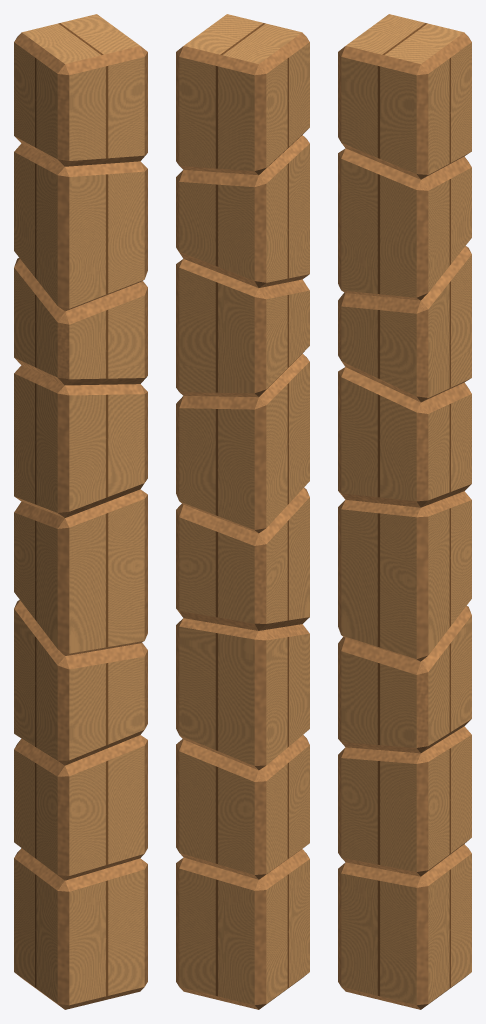
Rendered from Kit_Wood_Joint_Fractured.glb.
3 views of the same model, side by side, from view 1: azimuth 30°, elevation 25°; view 2: azimuth 150°, elevation 25°; view 3: azimuth 330°, elevation 25° (orthographic).
Parts seen in each view (by area): view 1: Kit_Wood_Joint_frag_04, Kit_Wood_Joint_frag_08, Kit_Wood_Joint_frag_07, Kit_Wood_Joint_frag_01, Kit_Wood_Joint_frag_05, Kit_Wood_Joint_frag_02, Kit_Wood_Joint_frag_03, Kit_Wood_Joint_frag_06; view 2: Kit_Wood_Joint_frag_08, Kit_Wood_Joint_frag_01, Kit_Wood_Joint_frag_03, Kit_Wood_Joint_frag_05, Kit_Wood_Joint_frag_02, Kit_Wood_Joint_frag_07, Kit_Wood_Joint_frag_04, Kit_Wood_Joint_frag_06; view 3: Kit_Wood_Joint_frag_04, Kit_Wood_Joint_frag_08, Kit_Wood_Joint_frag_01, Kit_Wood_Joint_frag_07, Kit_Wood_Joint_frag_02, Kit_Wood_Joint_frag_05, Kit_Wood_Joint_frag_03, Kit_Wood_Joint_frag_06.
Part boxes in pixels (box(x1,y1,x2,y2)): Kit_Wood_Joint_frag_04: box(14, 489, 147, 655); Kit_Wood_Joint_frag_08: box(14, 14, 147, 166); Kit_Wood_Joint_frag_07: box(14, 143, 147, 311); Kit_Wood_Joint_frag_01: box(14, 848, 147, 1009); Kit_Wood_Joint_frag_05: box(14, 365, 147, 517); Kit_Wood_Joint_frag_02: box(14, 735, 147, 880); Kit_Wood_Joint_frag_03: box(14, 600, 147, 765); Kit_Wood_Joint_frag_06: box(14, 258, 147, 385); Kit_Wood_Joint_frag_08: box(176, 14, 309, 175); Kit_Wood_Joint_frag_01: box(176, 849, 309, 1009); Kit_Wood_Joint_frag_03: box(176, 618, 309, 770); Kit_Wood_Joint_frag_05: box(176, 353, 309, 533); Kit_Wood_Joint_frag_02: box(176, 735, 309, 879); Kit_Wood_Joint_frag_07: box(176, 135, 309, 287); Kit_Wood_Joint_frag_04: box(176, 487, 309, 630); Kit_Wood_Joint_frag_06: box(176, 259, 309, 397); Kit_Wood_Joint_frag_04: box(338, 491, 471, 661); Kit_Wood_Joint_frag_08: box(338, 14, 471, 179); Kit_Wood_Joint_frag_01: box(338, 844, 471, 1009); Kit_Wood_Joint_frag_07: box(338, 148, 471, 300); Kit_Wood_Joint_frag_02: box(338, 726, 471, 876); Kit_Wood_Joint_frag_05: box(338, 367, 471, 507); Kit_Wood_Joint_frag_03: box(338, 606, 471, 753); Kit_Wood_Joint_frag_06: box(338, 246, 471, 402).
Size of what is drawn, in the model's own units: 0.3 by 3 by 0.3.
Materials: 2 (2 with a texture image).
